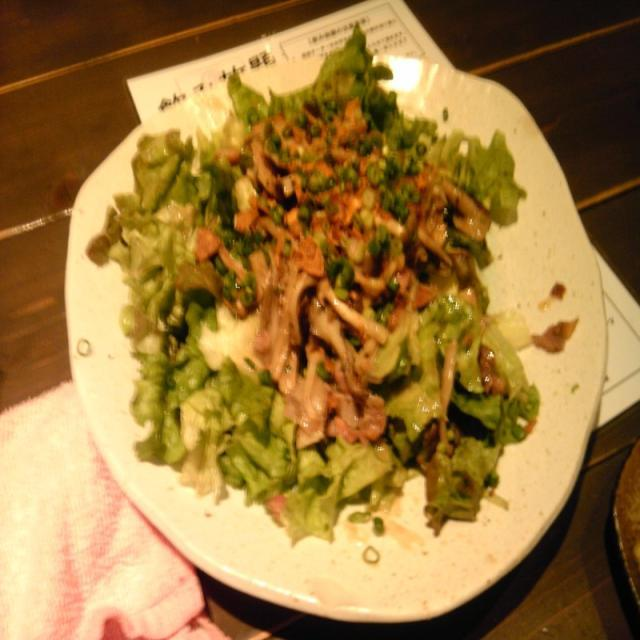Green Salad: (102, 67, 534, 515)
